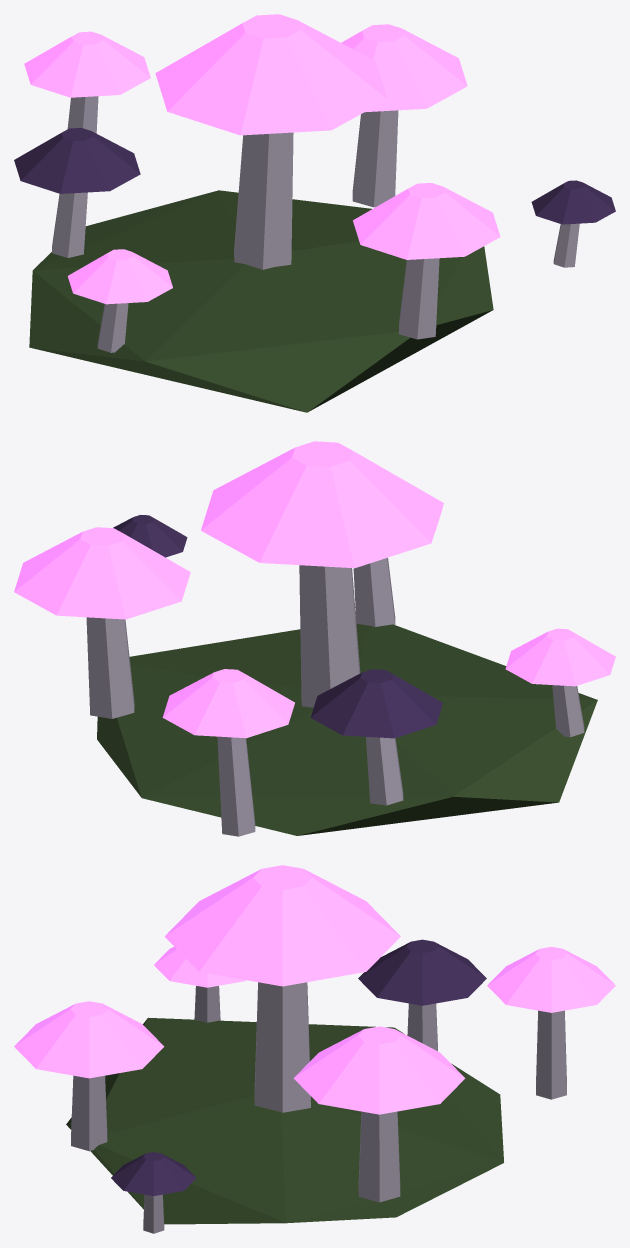
The model's file is glow_mushrooms.glb.
3 renders of one model, top to bottom at view 1: azimuth 30°, elevation 25°; view 2: azimuth 150°, elevation 25°; view 3: azimuth 270°, elevation 25°, orthographic. The views are drawn at different scales.
Visible parts, largest first — view 1: GlowMushrooms; view 2: GlowMushrooms; view 3: GlowMushrooms.
Boxes of the visible parts, left/top/right/bottom form: GlowMushrooms: left=14, top=14, right=615, bottom=412; GlowMushrooms: left=14, top=441, right=615, bottom=836; GlowMushrooms: left=14, top=865, right=615, bottom=1233.
Size of the model in its own units: 0.54 by 0.2901 by 0.56.
